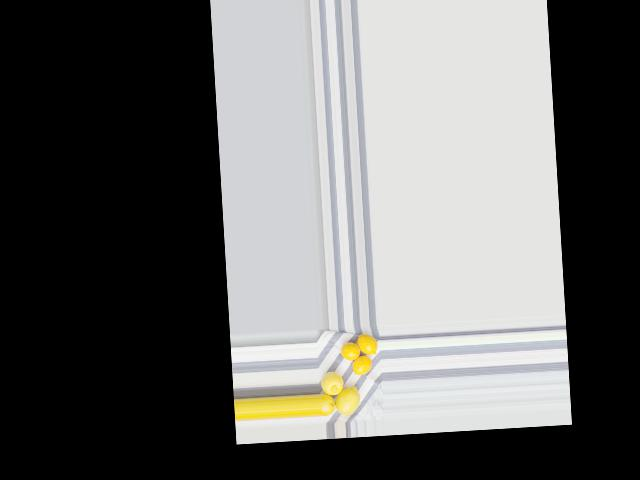lemon: (357, 333, 377, 356)
